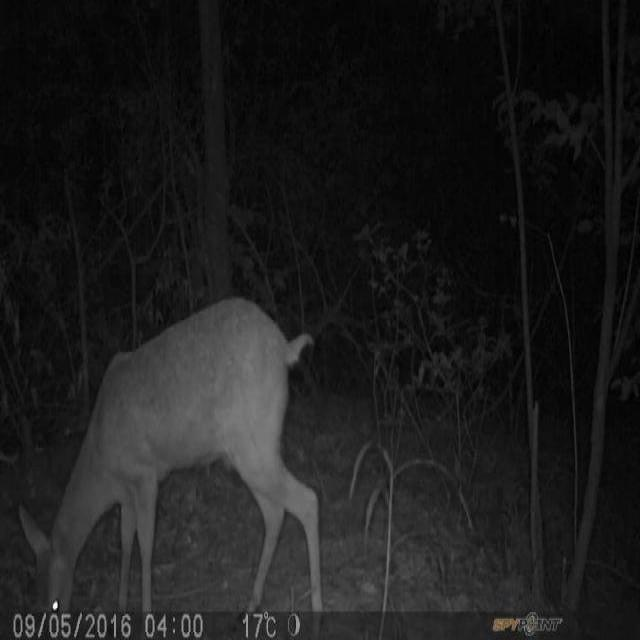deer: (17, 293, 328, 606)
